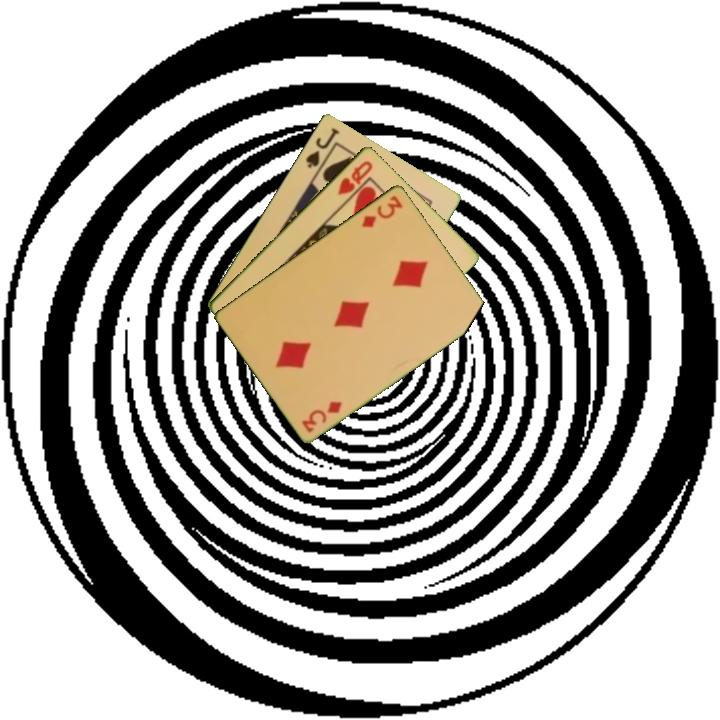3d: (358, 191, 406, 230), (298, 397, 345, 435)
Js: (302, 124, 342, 171)
Qh: (334, 157, 376, 198)
